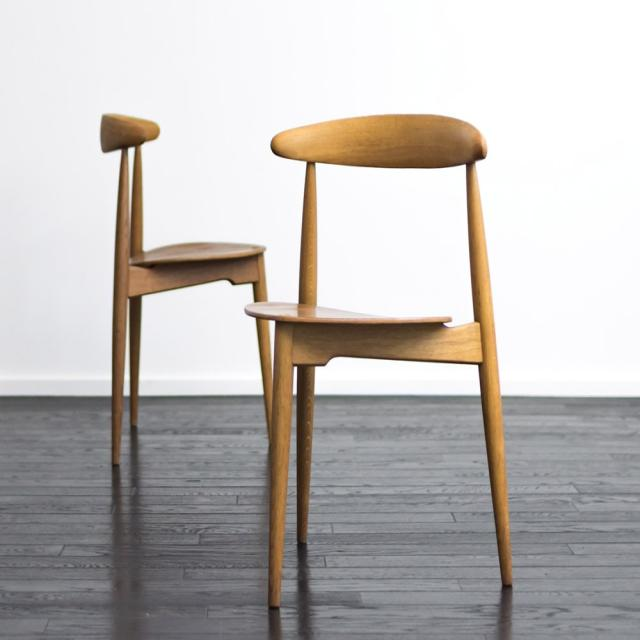chair vintage: (244, 106, 517, 611)
